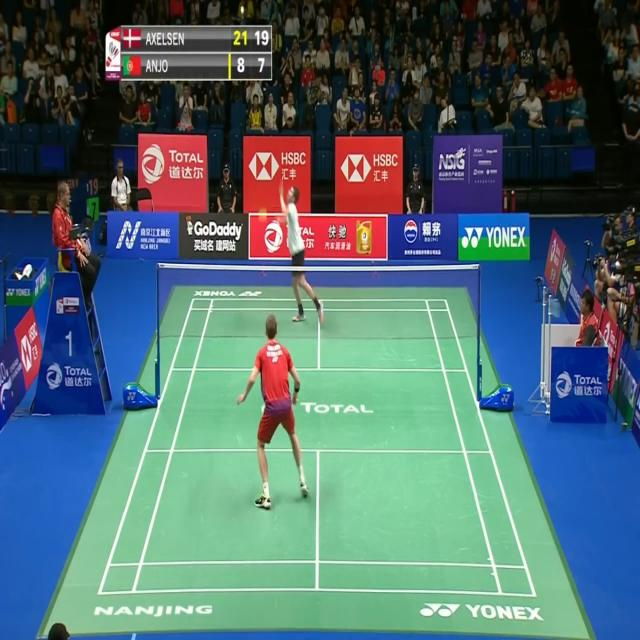Player1: (233, 306, 310, 514)
Player2: (277, 179, 324, 321)
